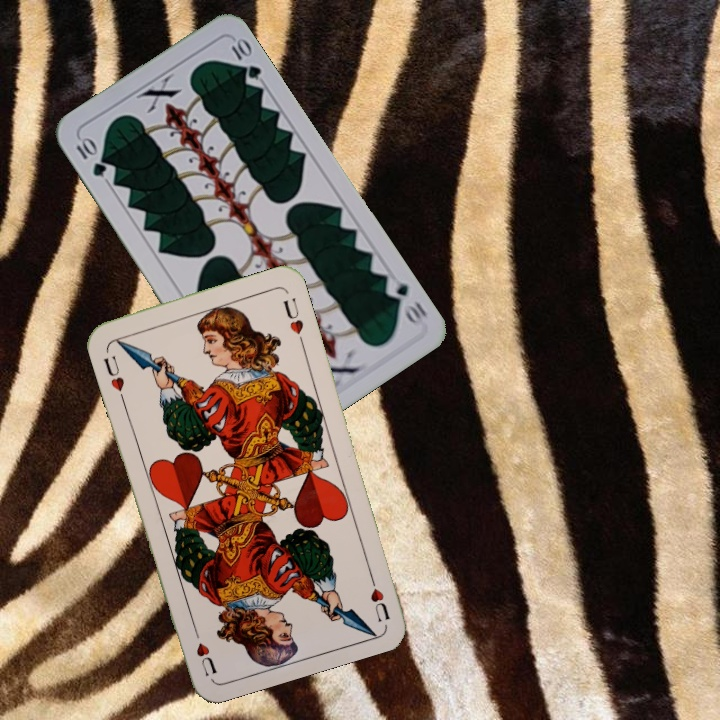G10: (381, 273, 430, 328), (72, 133, 109, 180)
HU: (364, 567, 392, 625), (99, 352, 127, 394)
